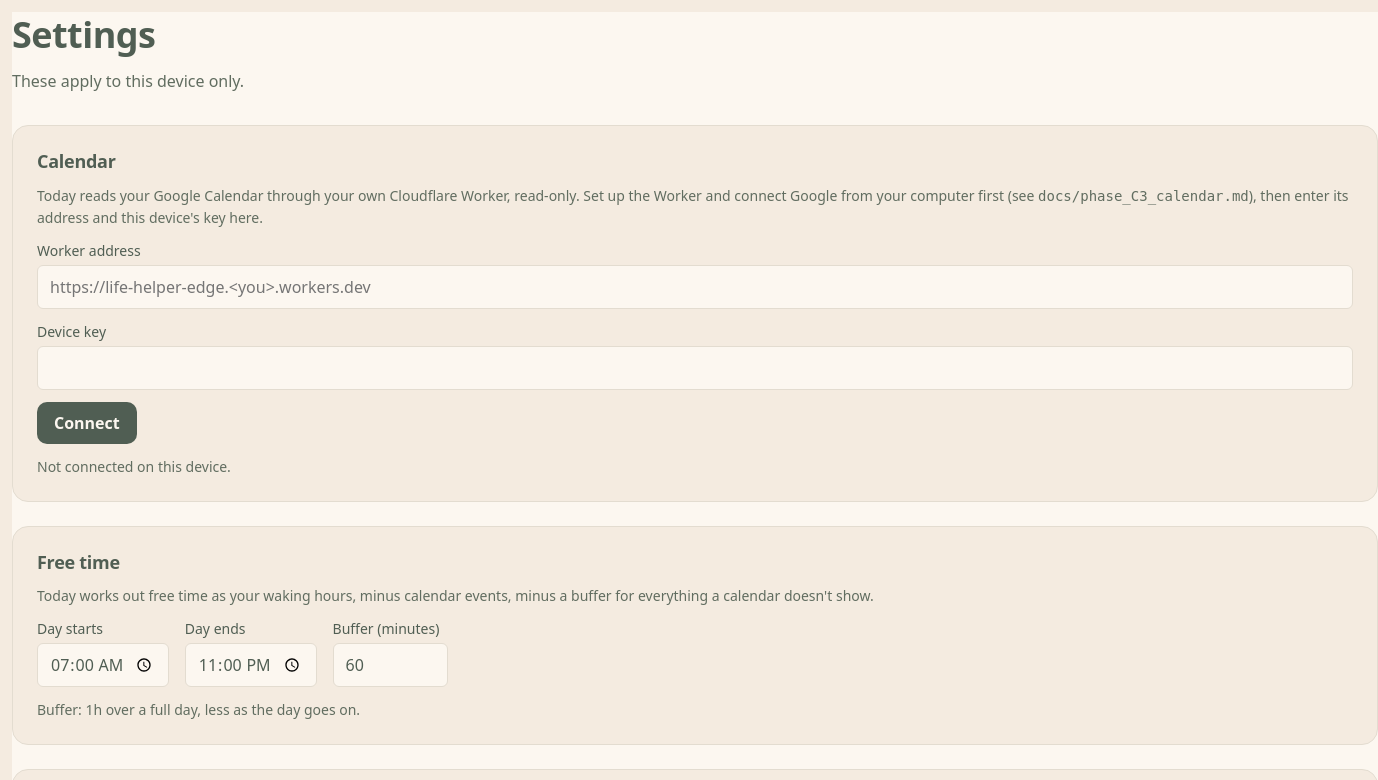
Scenario: SettingsRoute: free time and reminder › stores waking hours and the buffer on this device
Replace the text in the time field labelled "Day starts" with "06:30" at (103, 665), box [37,643,169,687]
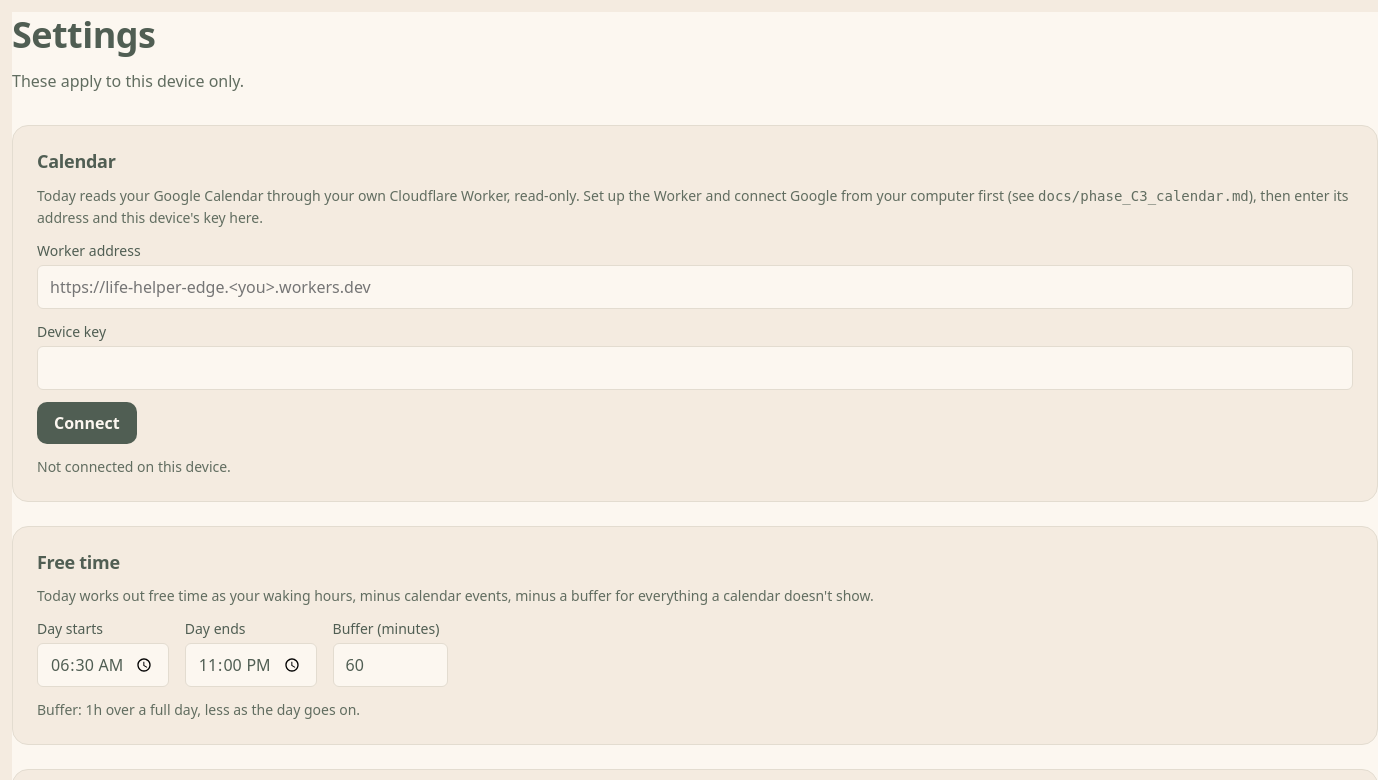
Replace the text in the number field labelled "Buffer (minutes)" with "90" at (390, 665), box [333,643,448,687]
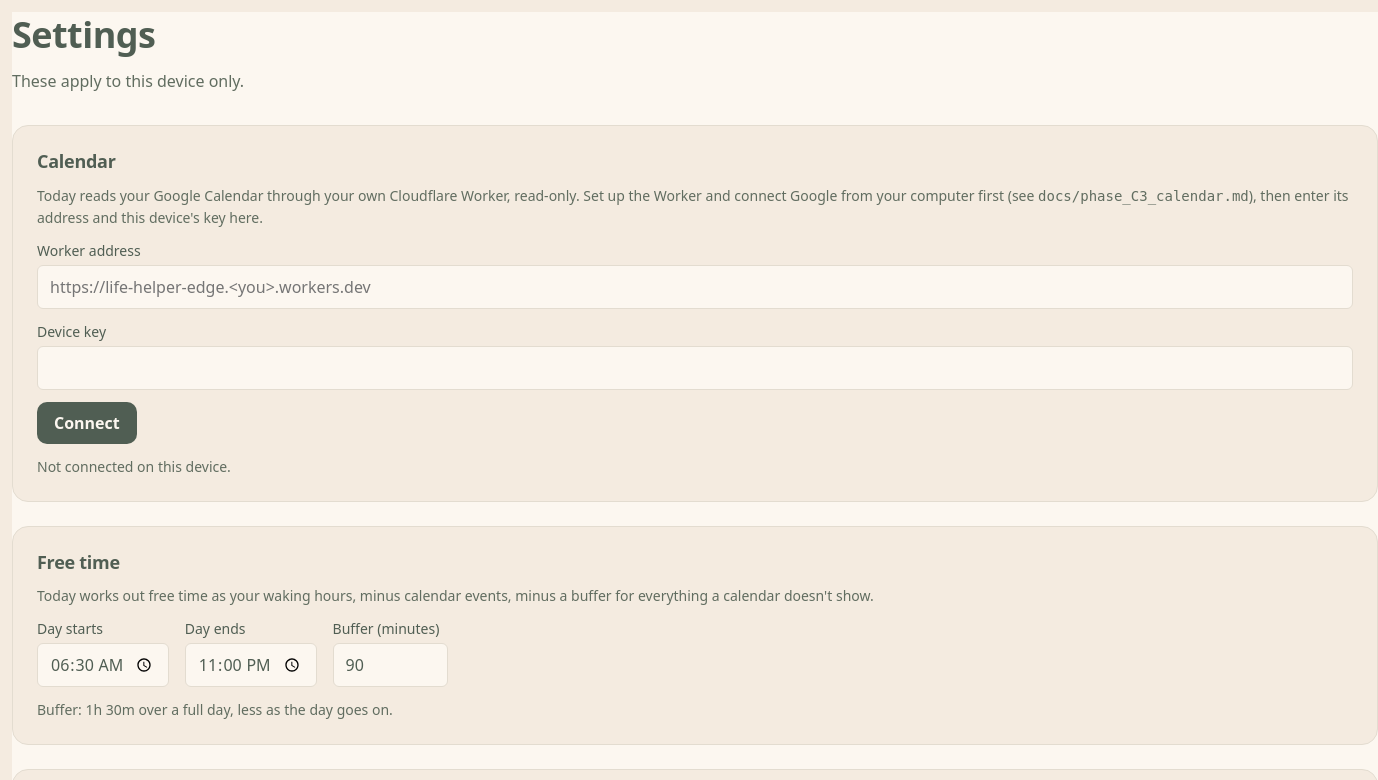
Check: the text "Buffer: 1h 30m over a full day, less as the day goes on." is shown, box [37,700,393,719]
